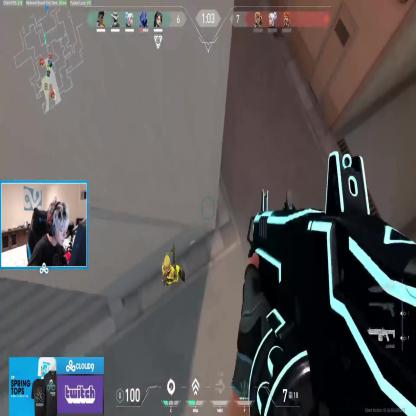enemy: (160, 249, 186, 291)
enemy_head: (164, 255, 170, 268)
